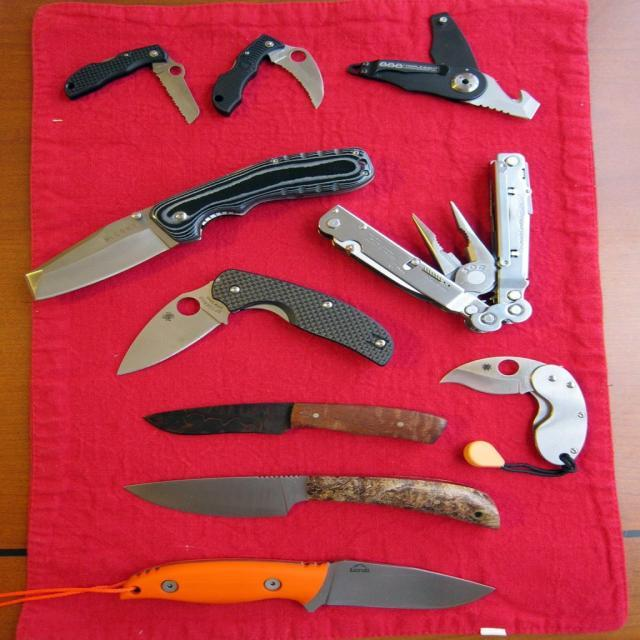Knife: (26, 149, 374, 299), (319, 152, 532, 332), (118, 269, 394, 375), (349, 12, 539, 118), (126, 476, 499, 528), (114, 560, 494, 611), (442, 356, 588, 464), (145, 402, 446, 443), (65, 45, 200, 123), (214, 34, 324, 114)
